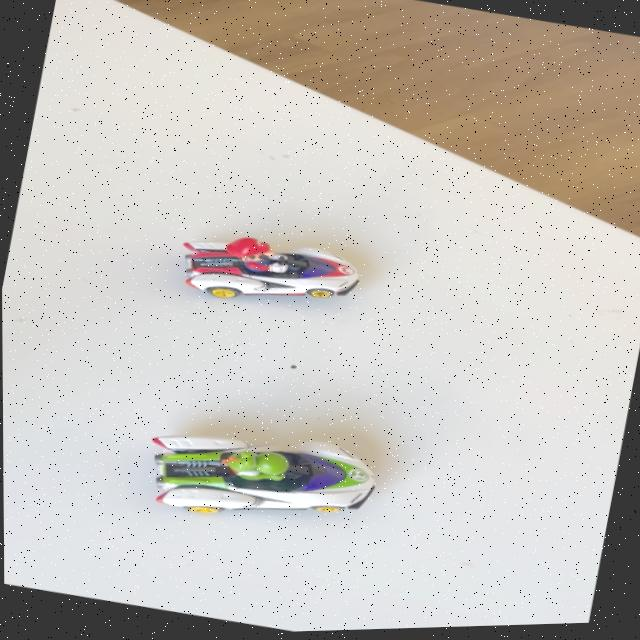mario: (154, 210, 388, 336)
yoshi: (126, 403, 398, 552)
